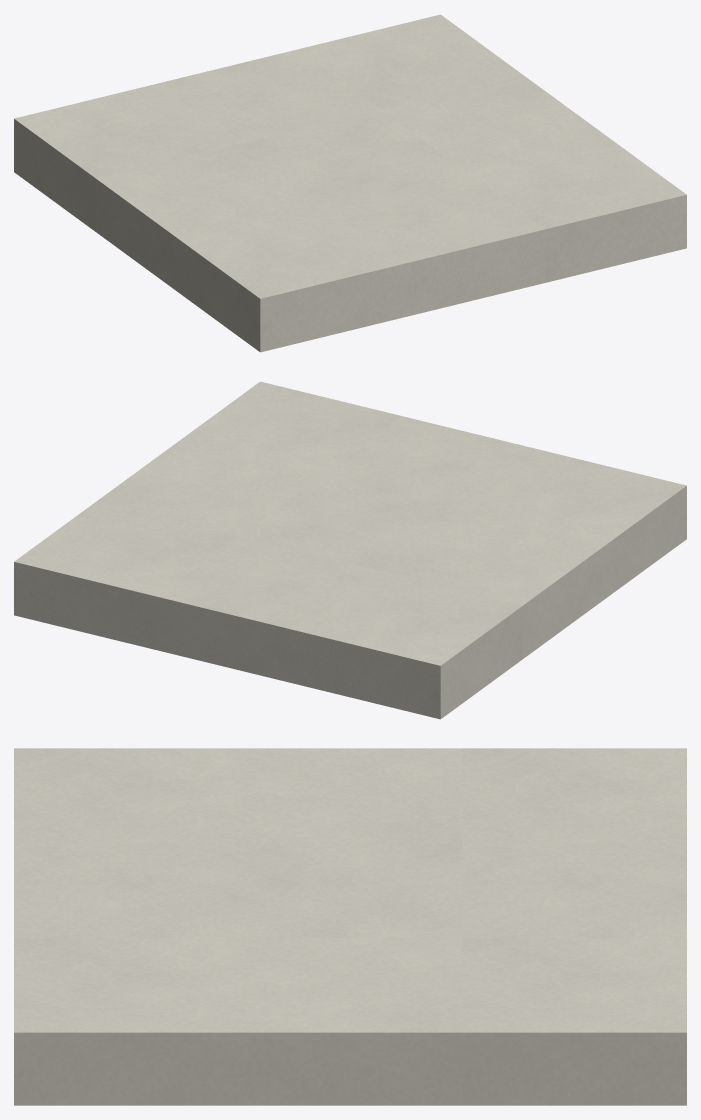
File: X14_ARCH_Ceiling_Coffered_300.glb
3 renders of one model, top to bottom at view 1: azimuth 30°, elevation 25°; view 2: azimuth 150°, elevation 25°; view 3: azimuth 270°, elevation 25°, orthographic. The views are drawn at different scales.
Visible parts, largest first — view 1: X14_ARCH_Ceiling_Coffered_300_LOD0; view 2: X14_ARCH_Ceiling_Coffered_300_LOD0; view 3: X14_ARCH_Ceiling_Coffered_300_LOD0.
Part boxes in pixels (<box>): X14_ARCH_Ceiling_Coffered_300_LOD0: <box>14,14,686,352</box>; X14_ARCH_Ceiling_Coffered_300_LOD0: <box>14,381,686,719</box>; X14_ARCH_Ceiling_Coffered_300_LOD0: <box>14,748,686,1105</box>.
Size of what is drawn, in the model's own units: 3 by 0.36 by 3.
Materials: 2 (1 with a texture image).
